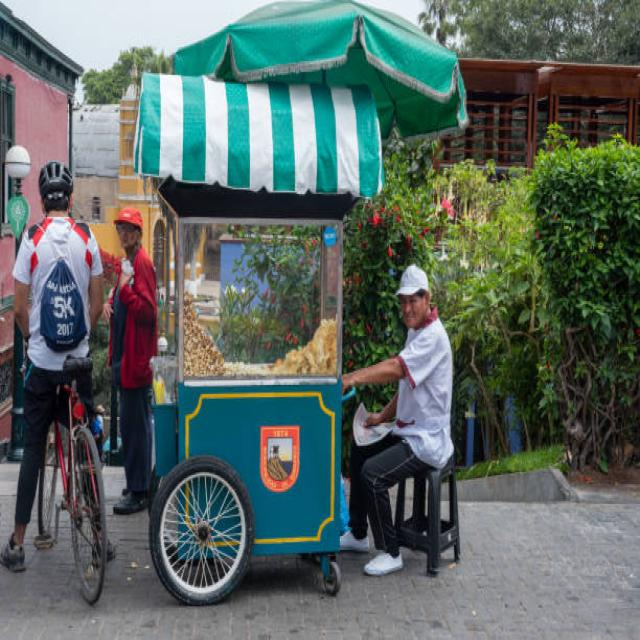Emperan: (110, 0, 488, 617)
